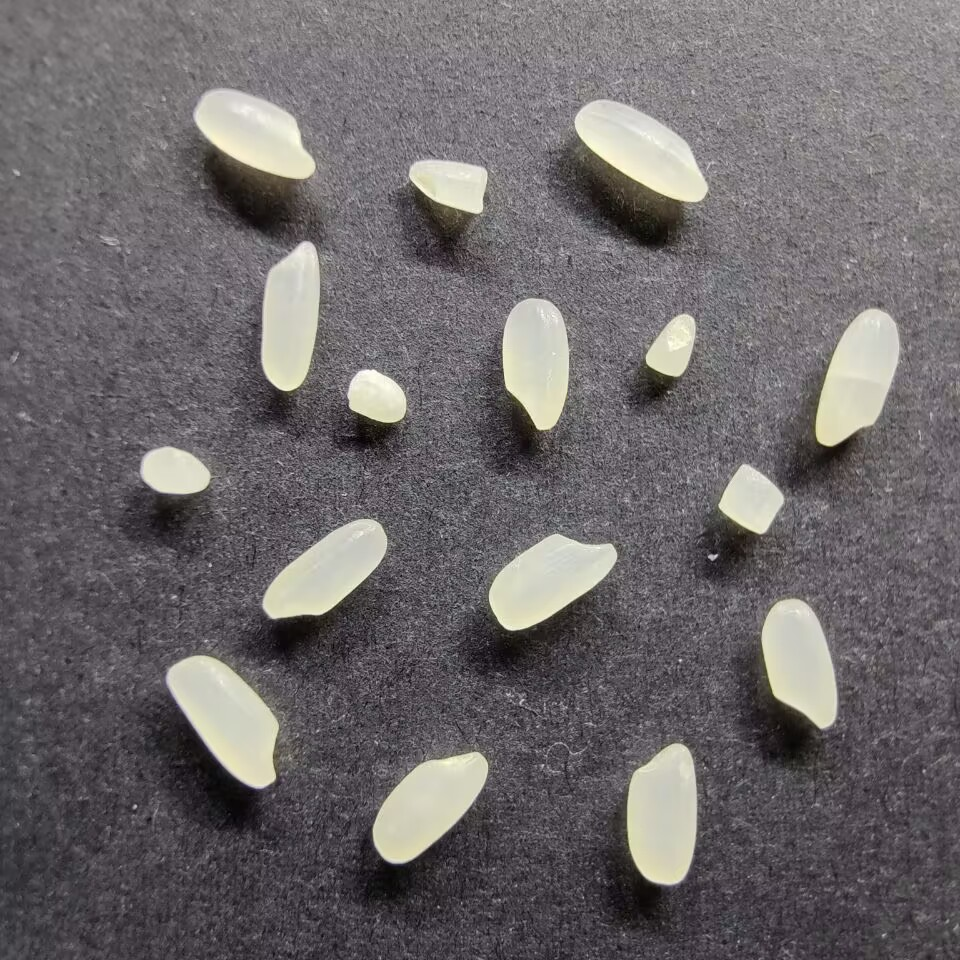broken: (403, 158, 492, 216), (718, 463, 785, 535), (137, 446, 214, 497), (642, 311, 697, 380), (345, 367, 409, 424)
rice: (162, 655, 281, 791), (571, 98, 710, 203), (369, 751, 489, 865), (262, 517, 388, 622), (486, 533, 619, 632), (813, 307, 901, 447), (193, 86, 318, 180), (624, 741, 700, 887), (760, 598, 841, 729), (258, 239, 320, 393), (501, 295, 571, 431)
